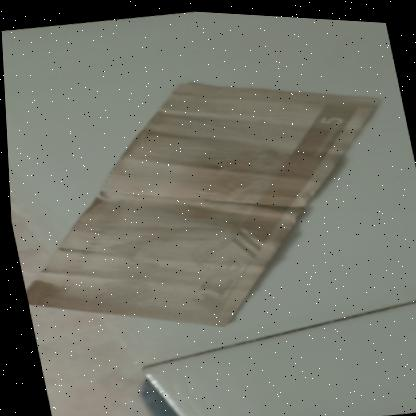five-back-vef: (2, 40, 416, 363)
